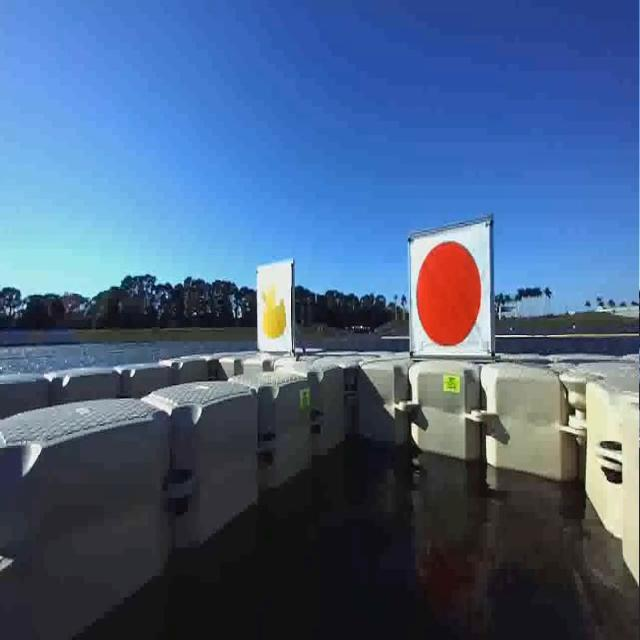red-dot: (411, 235, 488, 352)
yellow-duck: (258, 271, 291, 348)
